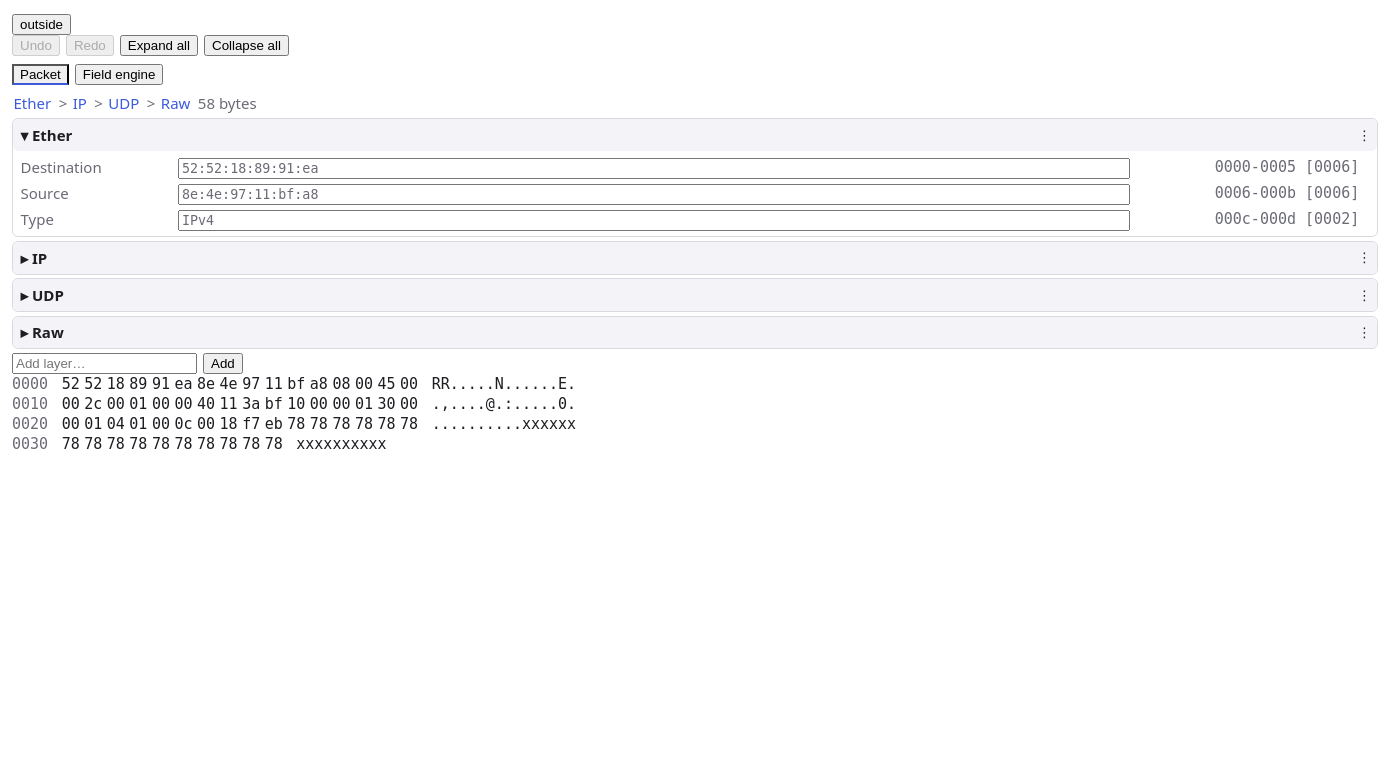
PacketEditor › the toolbar Undo and Redo follow the history
expect the button "Undo" is disabled: met, box [12,35,60,56]
expect the element with class "layer-list" is shown: met, box [12,118,1378,349]
Click the button "▸ IP" at (24, 258), box [13,242,1352,274]
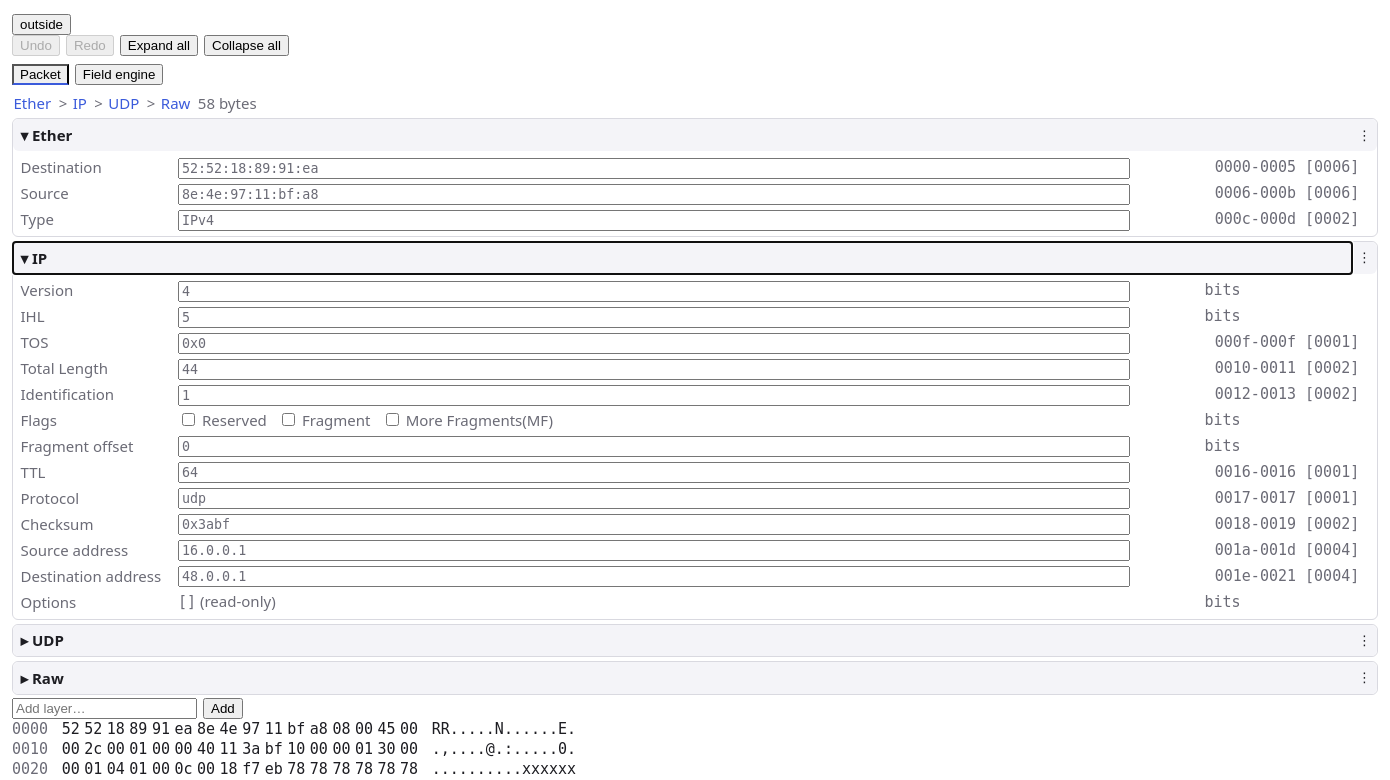
Replace the text in the field named "TTL" with "9" at (654, 473), box [178,462,1130,483]
Then press Enter
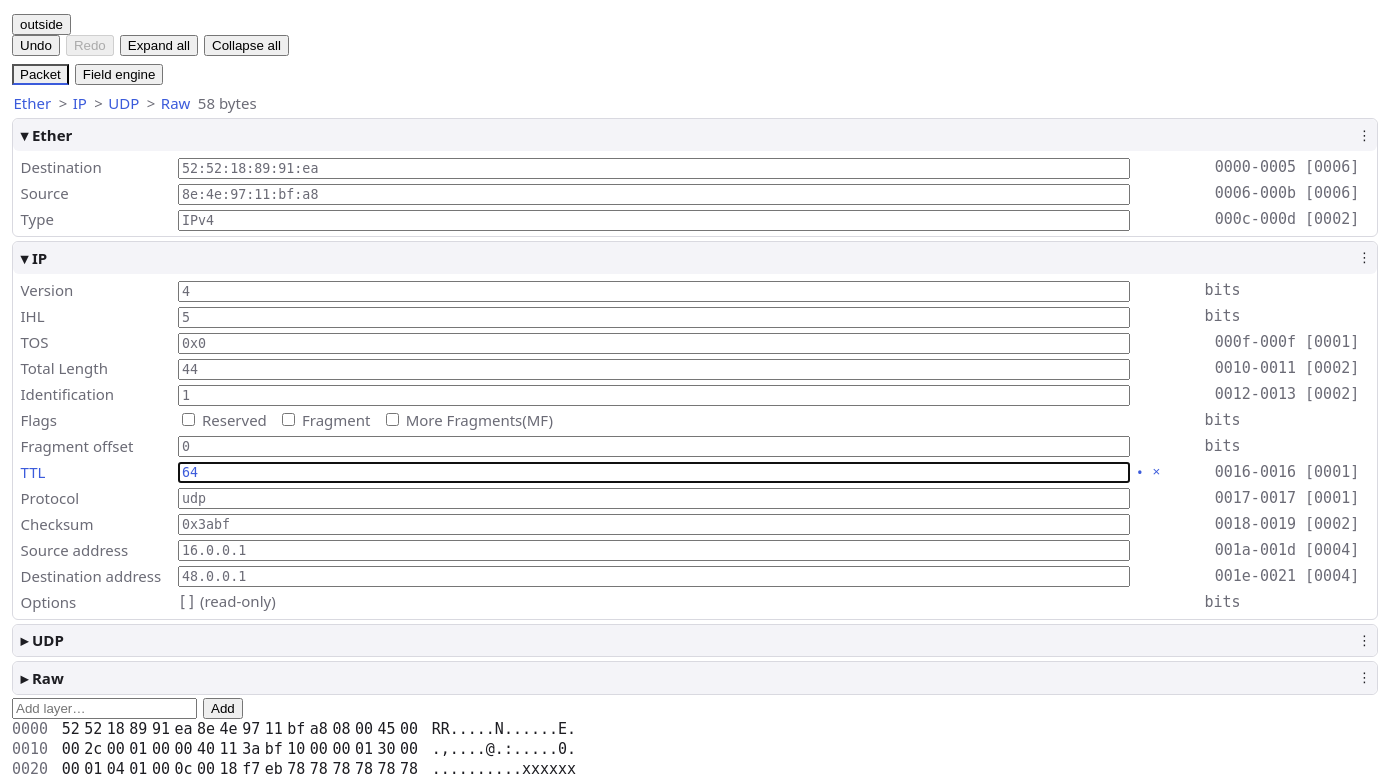
expect the button "Undo" is enabled: met
Click the button "Undo" at (36, 46), box [12,35,60,56]
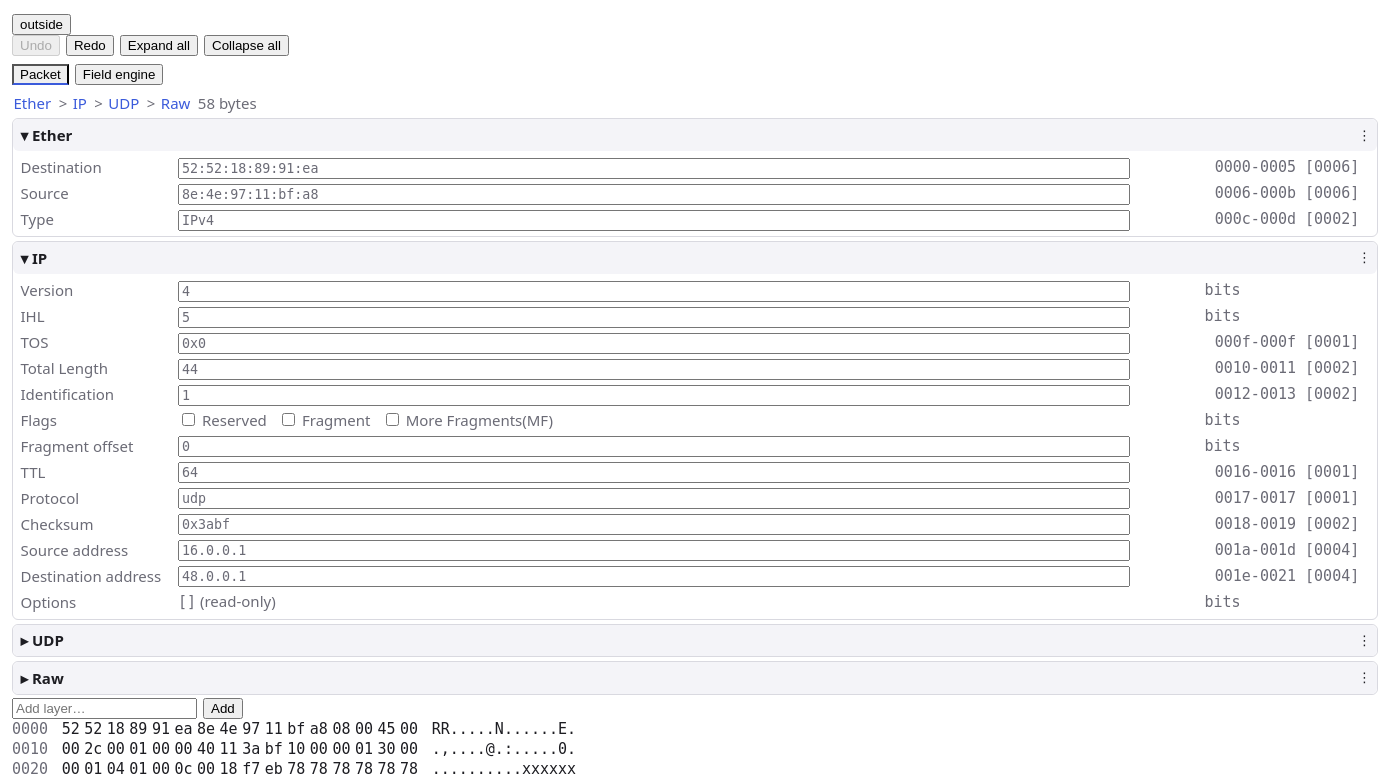
expect the button "Redo" is enabled: met, box [66,35,114,56]
